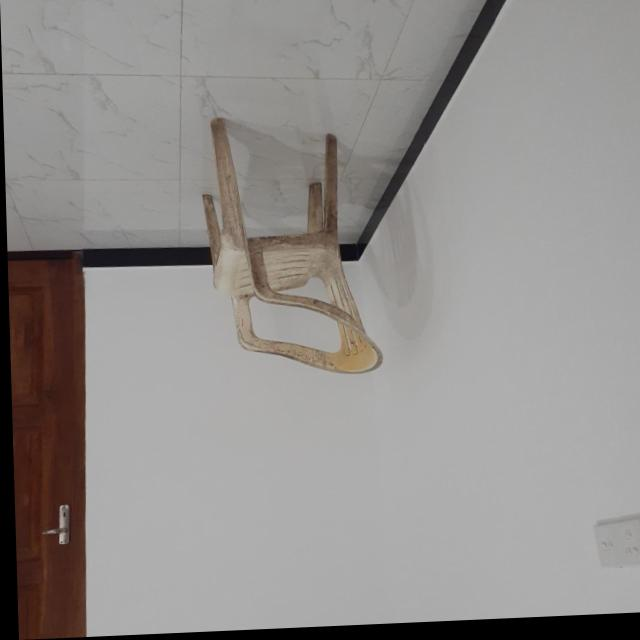Chair: (197, 112, 379, 385)
